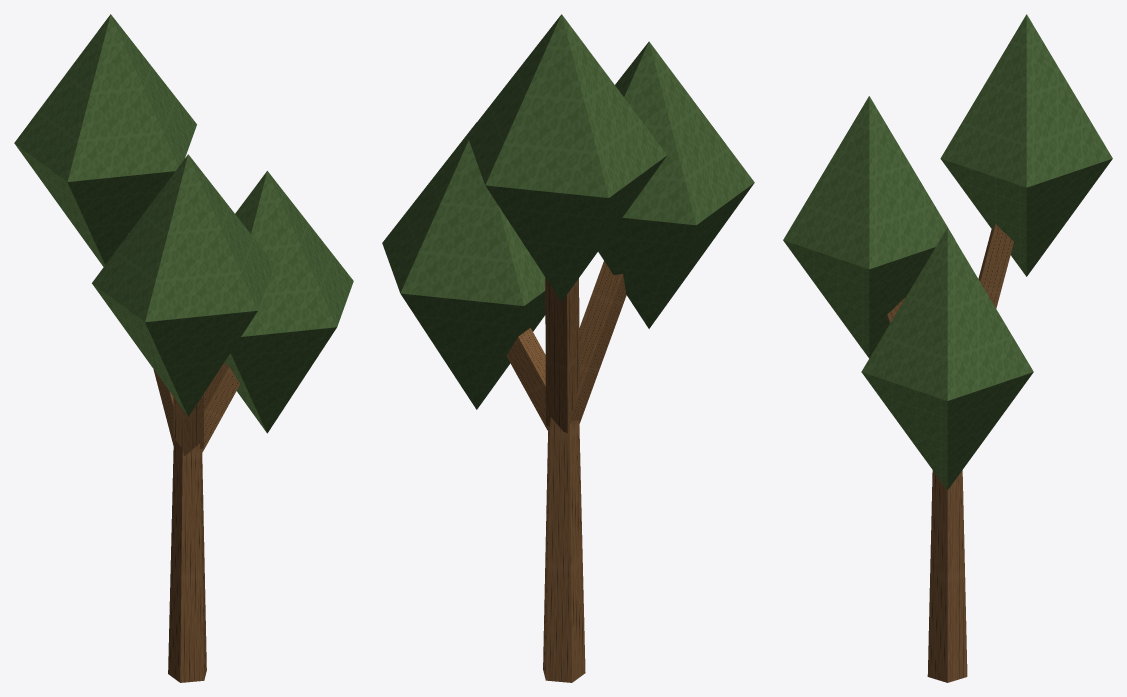
File: tree-upland-lod1.glb
3 views of the same model, side by side, from view 1: azimuth 30°, elevation 25°; view 2: azimuth 150°, elevation 25°; view 3: azimuth 270°, elevation 25° (orthographic). The views are drawn at different scales.
Size of the model in its own units: 0.3495 by 0.78 by 0.3637.
1 material, 1 textured.
